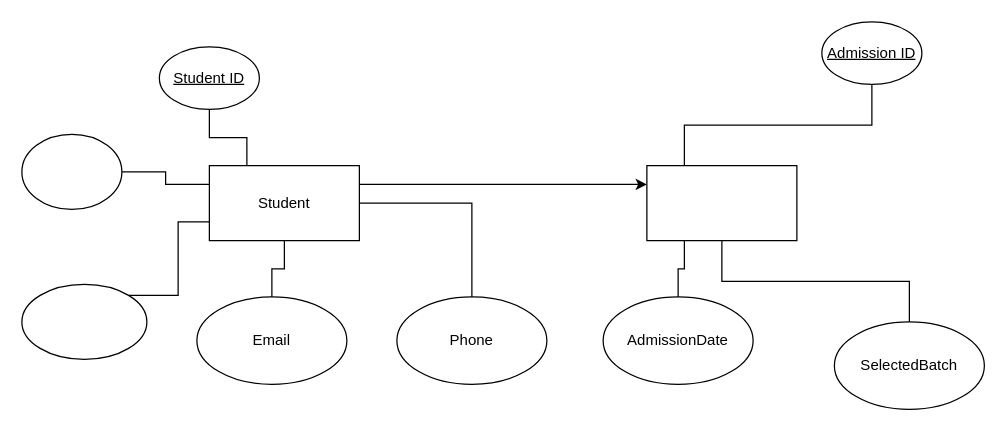
Image size: 1006x431. Some labels were removed from this diagram. Each missing label, with the centre of its shape:
Admission: (x=721, y=202)
Age: (x=84, y=321)
Name: (x=71, y=171)
